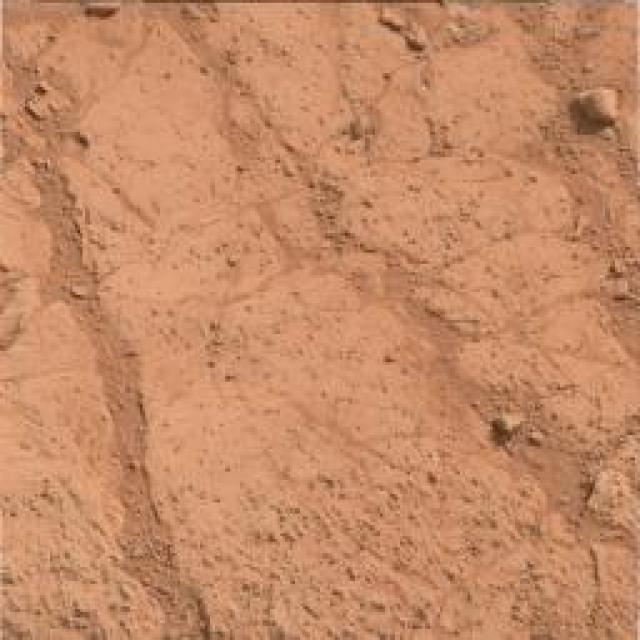rock: (568, 80, 628, 130), (492, 408, 528, 438)
